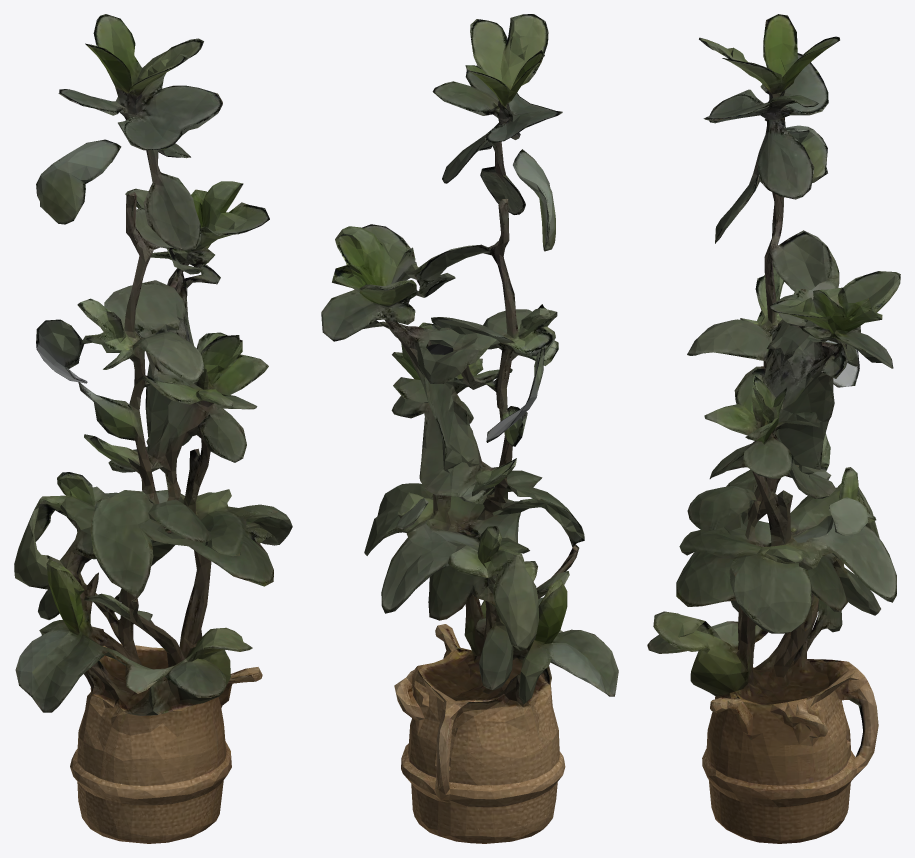
The model's file is ast_26add72bff83.glb.
The picture shows the model from 3 angles, left to right: view 1: azimuth 30°, elevation 25°; view 2: azimuth 150°, elevation 25°; view 3: azimuth 270°, elevation 25°; orthographic projection.
Parts seen in each view (by area): view 1: geometry_0; view 2: geometry_0; view 3: geometry_0.
Boxes of the visible parts, x1,y1,x2,y2 form: geometry_0: (14, 14, 292, 843); geometry_0: (321, 14, 618, 843); geometry_0: (647, 14, 900, 843).
Bounding box in the file's own units: 0.335 × 0.9993 × 0.2971.
1 material, 1 textured.
